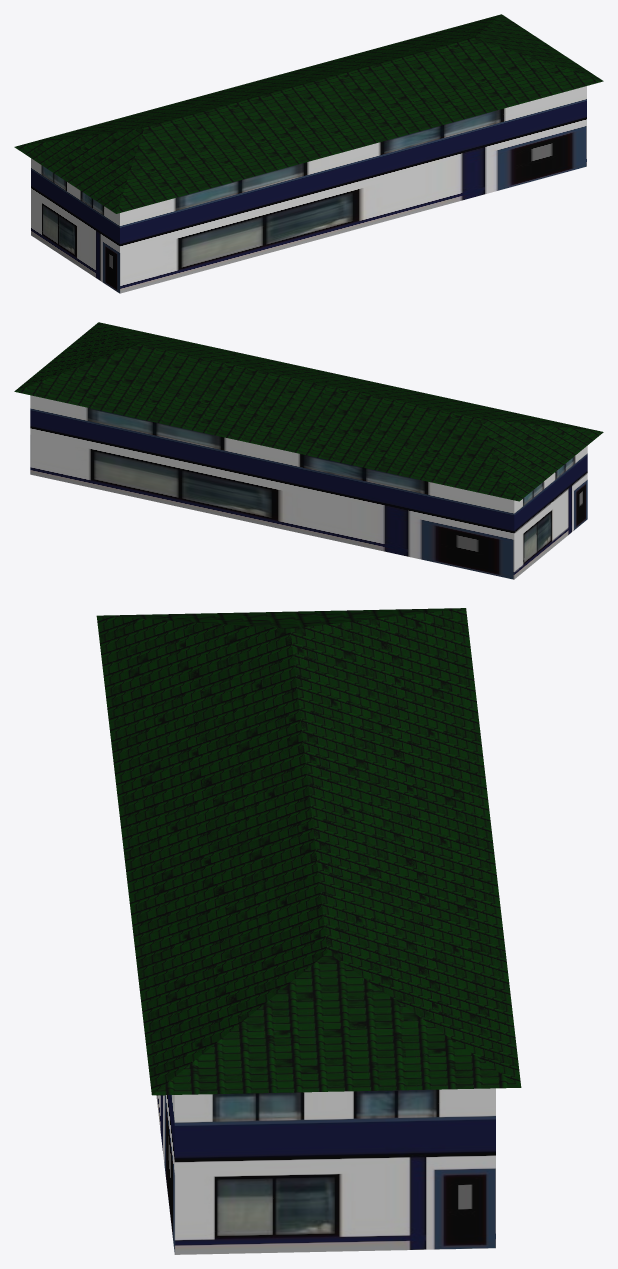
3 views of the same model, one above another, from view 1: azimuth 30°, elevation 25°; view 2: azimuth 150°, elevation 25°; view 3: azimuth 270°, elevation 25° (orthographic). The views are drawn at different scales.
Visible parts, largest first — view 1: CityEngineMaterial_13_m, CityEngineMaterial_2_m; view 2: CityEngineMaterial_13_m, CityEngineMaterial_2_m; view 3: CityEngineMaterial_13_m, CityEngineMaterial_2_m.
Boxes of the visible parts, <box> form: CityEngineMaterial_13_m: <box>14,14,603,213</box>; CityEngineMaterial_2_m: <box>31,86,586,293</box>; CityEngineMaterial_13_m: <box>14,322,603,501</box>; CityEngineMaterial_2_m: <box>30,395,587,579</box>; CityEngineMaterial_13_m: <box>96,608,521,1095</box>; CityEngineMaterial_2_m: <box>156,1088,495,1254</box>.
Bounding box in the file's own units: 44.94 × 9.94 × 16.55.
